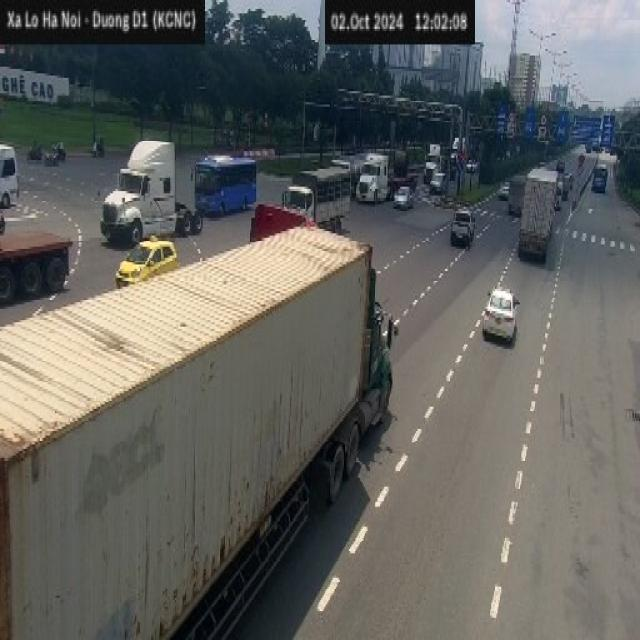bus: (194, 154, 256, 216)
car: (115, 233, 179, 287), (481, 287, 520, 342)
container-truck: (0, 222, 398, 638)
